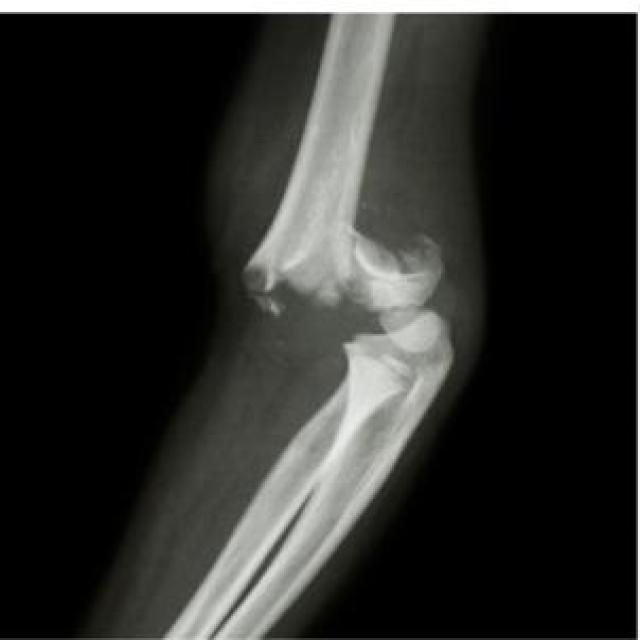bone: (216, 245, 348, 323)
